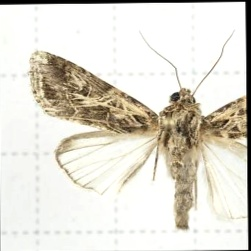Spodoptera litura: (27, 29, 247, 233)
